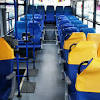seat: (67, 42, 95, 78)
